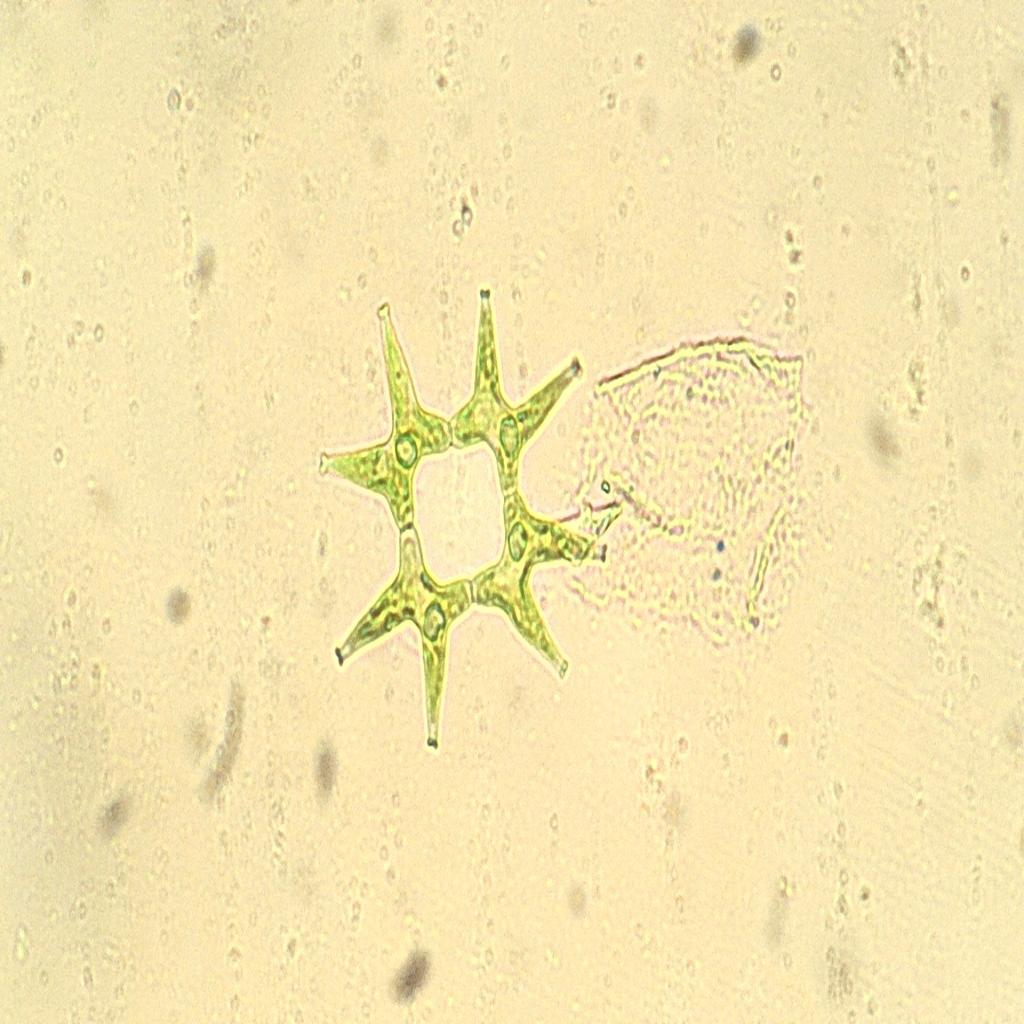Pediastrum_75O: (306, 268, 624, 766)
